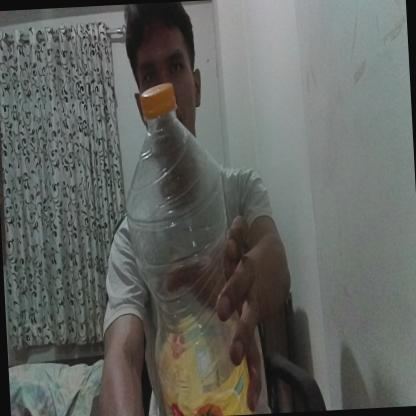plastic_bottles: (119, 71, 252, 416)
